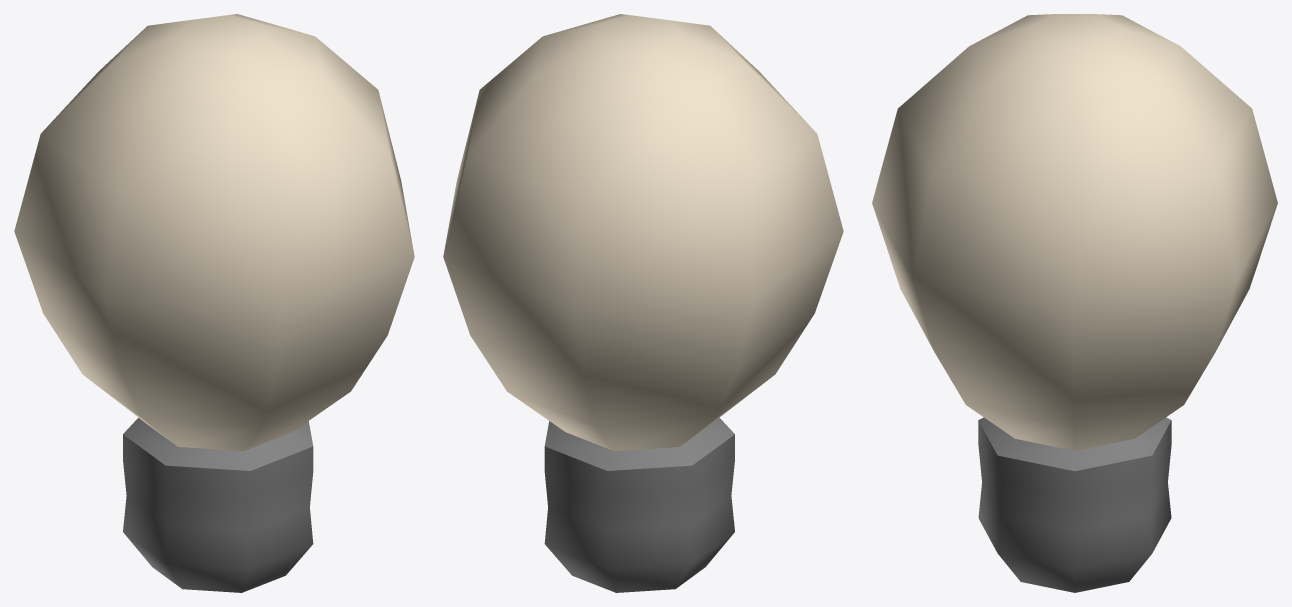
File: Lampu.fbx
3 renders of one model, left to right at view 1: azimuth 30°, elevation 25°; view 2: azimuth 150°, elevation 25°; view 3: azimuth 270°, elevation 25°, orthographic.
Visible parts, largest first — view 1: Cylinder006; view 2: Cylinder006; view 3: Cylinder006.
Boxes of the visible parts, <box> form: Cylinder006: <box>14,14,414,592</box>; Cylinder006: <box>443,14,843,592</box>; Cylinder006: <box>872,14,1277,592</box>.
Bounding box in the file's own units: 32.71 × 48.57 × 33.55.
Materials: 1 (1 with a texture image).
